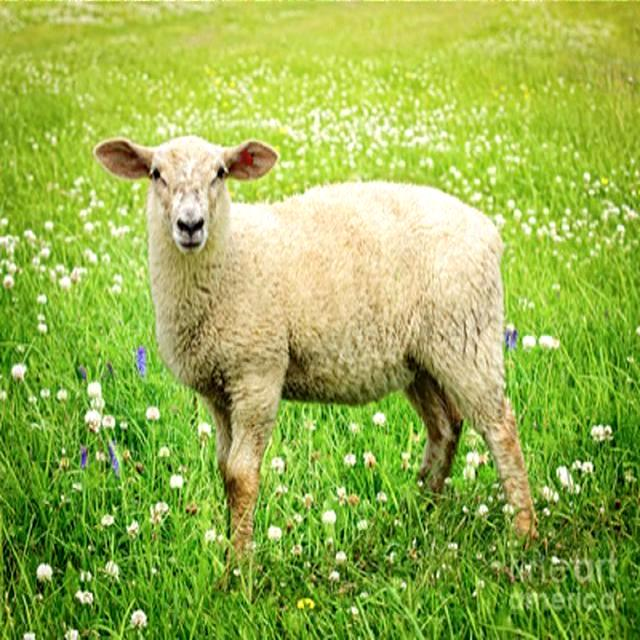sheep: (92, 139, 538, 598)
